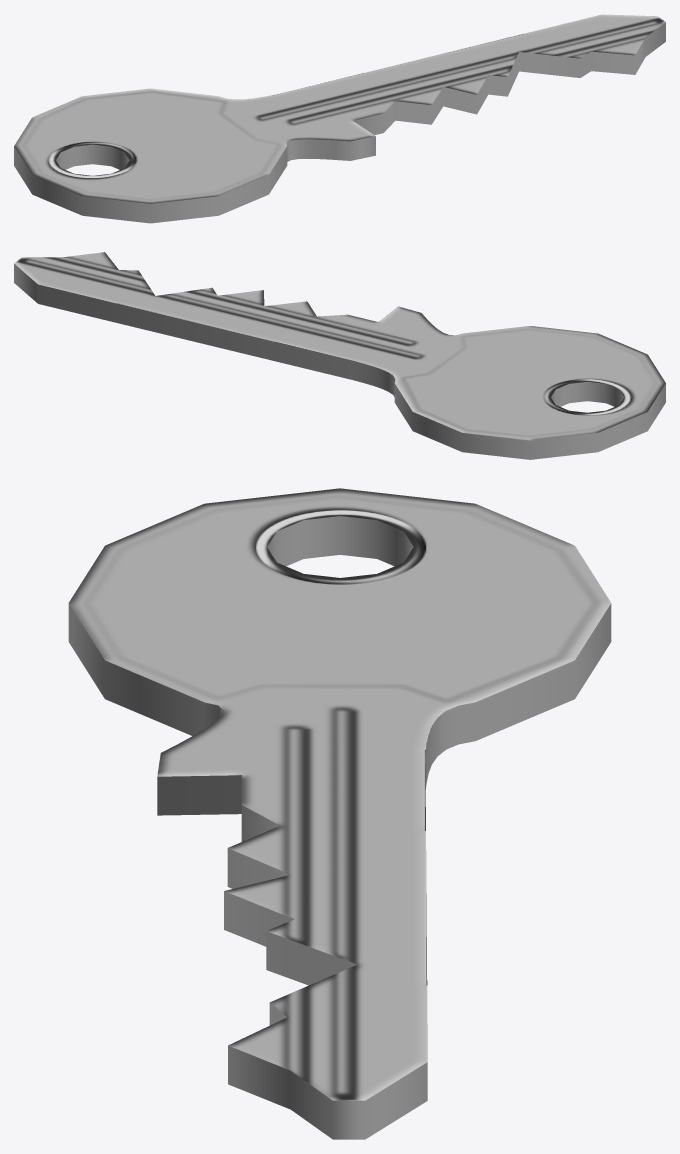
Rendered from key4.FBX.
3 views of the same model, one above another, from view 1: azimuth 30°, elevation 25°; view 2: azimuth 150°, elevation 25°; view 3: azimuth 270°, elevation 25° (orthographic). The views are drawn at different scales.
Parts seen in each view (by area): view 1: NGon001; view 2: NGon001; view 3: NGon001.
Part boxes in pixels (x1=…): NGon001: x1=14, y1=14, x2=665, y2=223; NGon001: x1=14, y1=252, x2=665, y2=459; NGon001: x1=68, y1=488, x2=611, y2=1139.
Size of the model in its own units: 67.41 by 25.25 by 1.99.
Materials: 1 (1 with a texture image).
